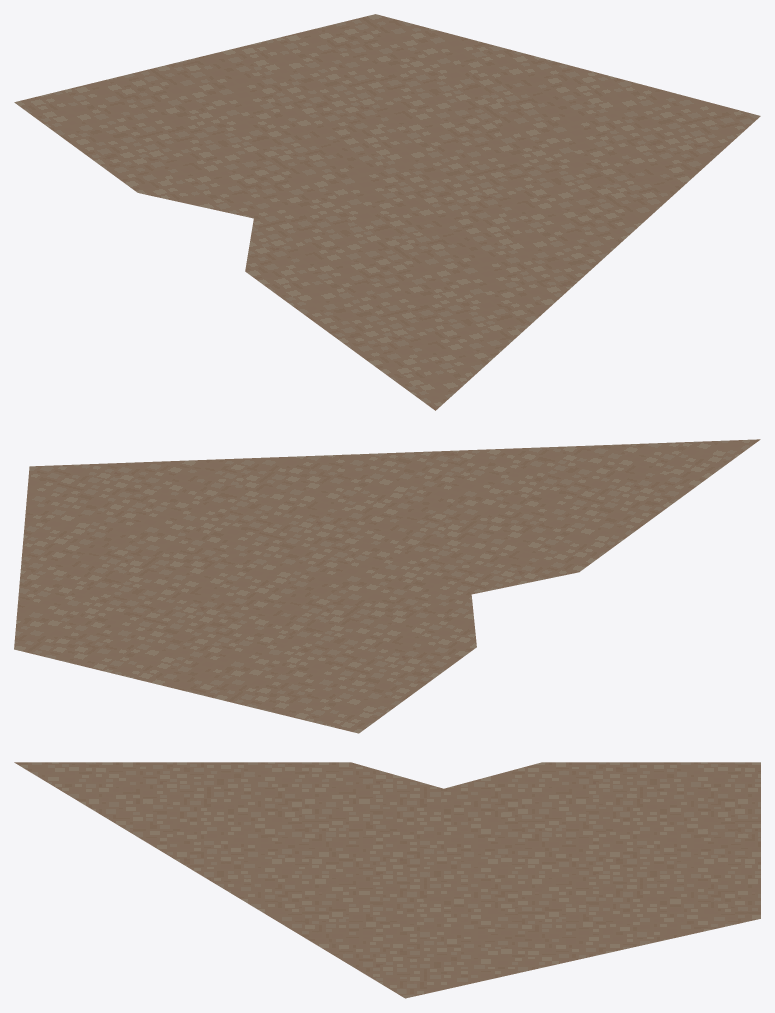
The model's file is kd_stage_135fe0_4_70_bounded.glb.
The picture shows the model from 3 angles, top to bottom: view 1: azimuth 30°, elevation 25°; view 2: azimuth 150°, elevation 25°; view 3: azimuth 270°, elevation 25°; orthographic projection. The views are drawn at different scales.
Parts seen in each view (by area): view 1: kd_stage_135fe0_4_70_bounded; view 2: kd_stage_135fe0_4_70_bounded; view 3: kd_stage_135fe0_4_70_bounded.
Boxes of the visible parts, x1,y1,x2,y2 form: kd_stage_135fe0_4_70_bounded: (14, 14, 760, 410); kd_stage_135fe0_4_70_bounded: (14, 439, 760, 733); kd_stage_135fe0_4_70_bounded: (14, 762, 760, 998).
Size of the model in its own units: 4.37 by 3.58e-07 by 5.85.
1 material, 1 textured.
